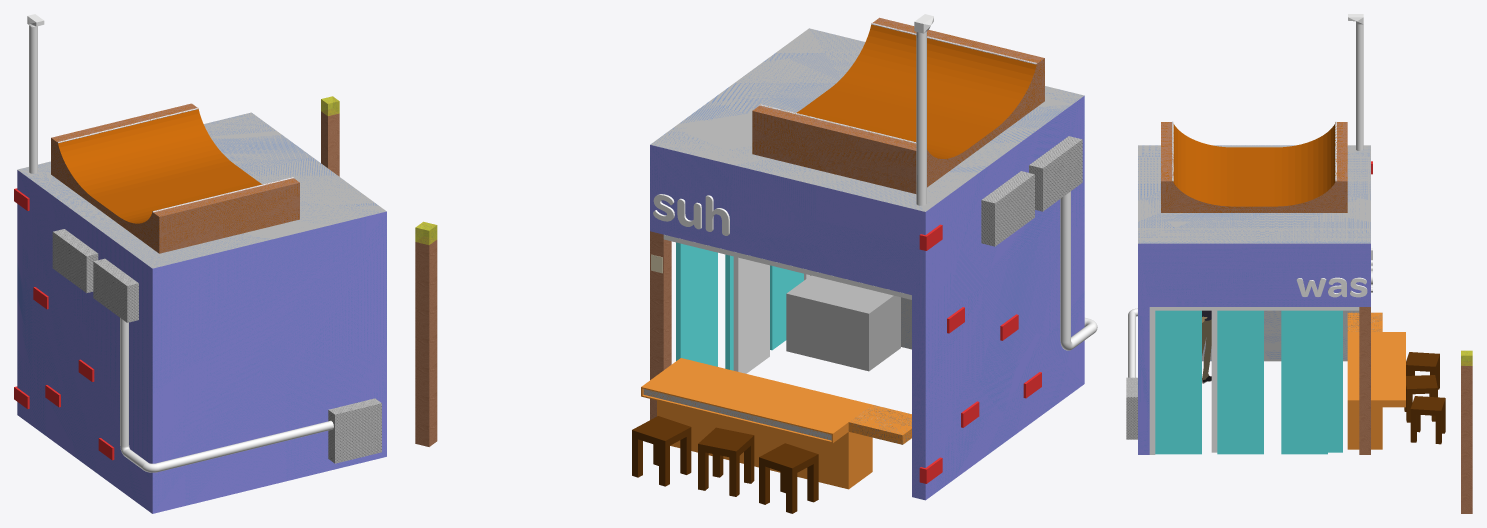
Rendered from hut4.dae.
The picture shows the model from 3 angles, left to right: view 1: azimuth 30°, elevation 25°; view 2: azimuth 150°, elevation 25°; view 3: azimuth 270°, elevation 25°; orthographic projection. The views are drawn at different scales.
Parts seen in each view (by area): view 1: group_0 (×2), group_14 (×2), SketchUp, group_7, group_5, group_6, group_15, group_26; view 2: group_0 (×2), group_14 (×2), group_2, group_19, group_26, group_33, group_32, group_1, group_6, group_35, group_5, group_36 (+8 smaller); view 3: group_0 (×3), group_14 (×2), group_29, group_30, group_31, group_2, group_33, group_26, group_1, group_34, group_15, group_28 (+8 smaller).
Boxes of the visible parts, box(x1,y1,x2,y2) form: group_0 (×2): box(17, 112, 386, 513); group_14 (×2): box(51, 103, 299, 253); SketchUp: box(120, 318, 333, 472); group_7: box(328, 398, 381, 463); group_5: box(93, 258, 138, 322); group_6: box(52, 229, 98, 292); group_15: box(29, 25, 37, 173); group_26: box(321, 109, 339, 176); group_0 (×2): box(650, 28, 1084, 500); group_14 (×2): box(752, 17, 1044, 193); group_2: box(641, 358, 872, 489); group_19: box(786, 275, 900, 371); group_26: box(415, 236, 437, 446); group_33: box(676, 242, 712, 365); group_32: box(733, 256, 769, 373); group_1: box(650, 231, 671, 419); group_6: box(981, 171, 1034, 246); group_35: box(698, 427, 754, 496); group_5: box(1029, 136, 1082, 211); group_36: box(759, 443, 818, 513); group_0 (×3): box(1138, 145, 1370, 454); group_14 (×2): box(1161, 122, 1347, 212); group_29: box(1155, 310, 1201, 454); group_30: box(1217, 310, 1263, 454); group_31: box(1281, 310, 1327, 454); group_2: box(1347, 332, 1405, 449); group_33: box(1328, 310, 1342, 452); group_26: box(1461, 362, 1472, 513); group_1: box(1359, 307, 1370, 454); group_34: box(1410, 396, 1445, 444); group_15: box(1356, 24, 1363, 150); group_28: box(1149, 310, 1155, 454).
Size of the model in its own units: 198 by 178 by 196.
26 materials, 6 textured.
